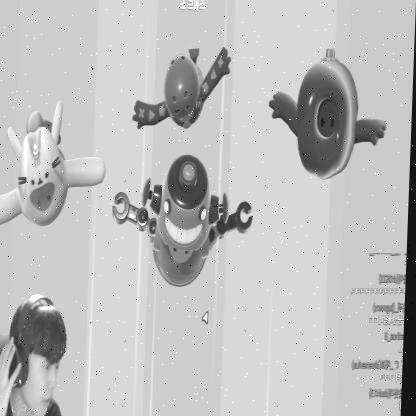streamer: (0, 294, 71, 416)
